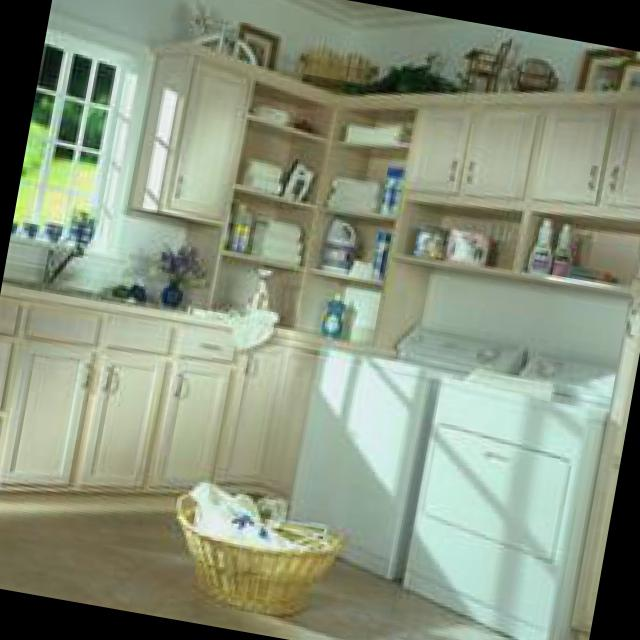2001: (11, 33, 130, 240)
basket crop: (175, 475, 341, 616), (507, 54, 553, 88)
bottle crop: (524, 212, 550, 271), (547, 220, 569, 272), (319, 289, 342, 333), (126, 267, 145, 296)
bouquet: (149, 243, 203, 304)
box contants: (441, 224, 488, 259), (338, 283, 376, 324)
cabinet door: (386, 89, 640, 290), (121, 40, 258, 226), (125, 49, 247, 221)
cabinets: (0, 285, 312, 499), (566, 236, 640, 640), (403, 102, 640, 217)
can: (378, 161, 401, 211), (366, 226, 387, 275), (229, 212, 247, 248)
ceiling beam: (299, 0, 445, 23)
dish towels: (220, 306, 274, 346)
dryer: (398, 350, 613, 640)
iron: (276, 153, 314, 200)
jar -X: (109, 281, 127, 294)
jug: (317, 211, 352, 268)
picture occluded: (230, 19, 282, 66), (575, 46, 632, 85), (620, 56, 640, 87)
plant -x: (338, 55, 463, 89), (301, 34, 369, 90)
shelf crop: (388, 199, 640, 288)
shelves crop: (205, 77, 414, 344)
sink basin: (3, 277, 133, 300)
sink occluded: (41, 241, 82, 281)
spray: (247, 265, 268, 308)
towels: (189, 478, 308, 546), (246, 212, 300, 260), (322, 174, 377, 213)
vase -X: (66, 206, 89, 237), (17, 216, 37, 233), (45, 218, 61, 235)
washing machine crop: (283, 322, 525, 575)
